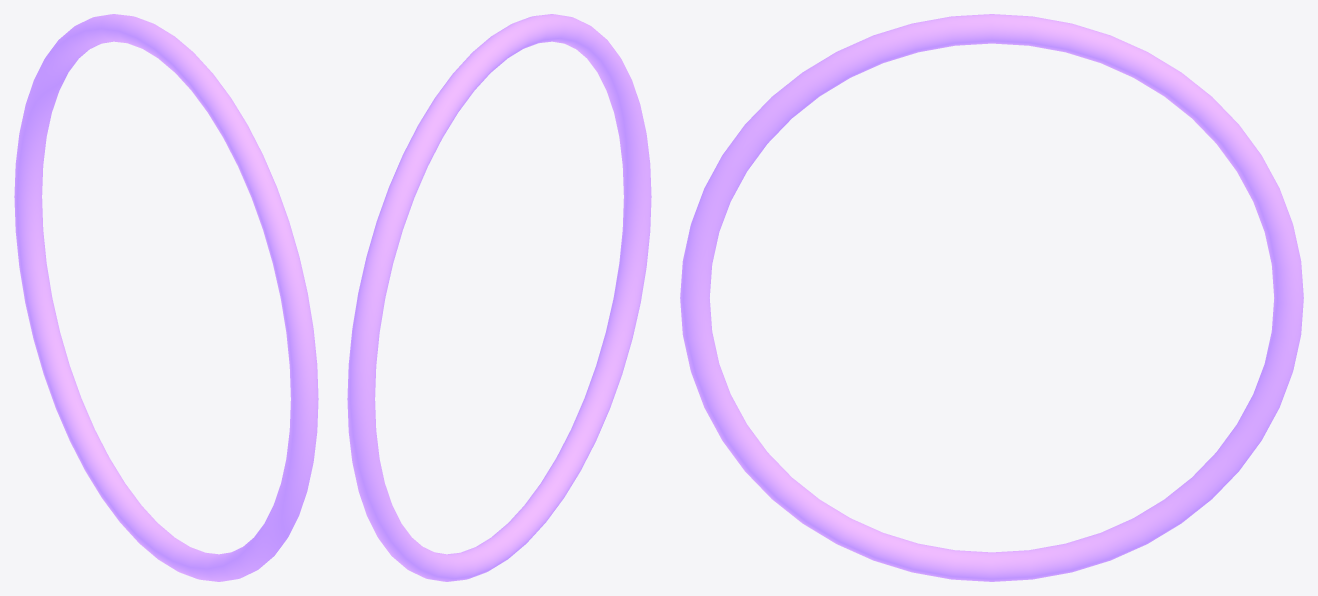
Rendered from crash_ring_violet.glb.
3 views of the same model, side by side, from view 1: azimuth 30°, elevation 25°; view 2: azimuth 150°, elevation 25°; view 3: azimuth 270°, elevation 25° (orthographic). The views are drawn at different scales.
Parts seen in each view (by area): view 1: Ring; view 2: Ring; view 3: Ring.
Boxes of the visible parts, left/top/right/bottom form: Ring: left=14, top=14, right=318, bottom=581; Ring: left=347, top=14, right=651, bottom=581; Ring: left=680, top=14, right=1303, bottom=581.
Bounding box in the file's own units: 0.007 × 0.147 × 0.147.
